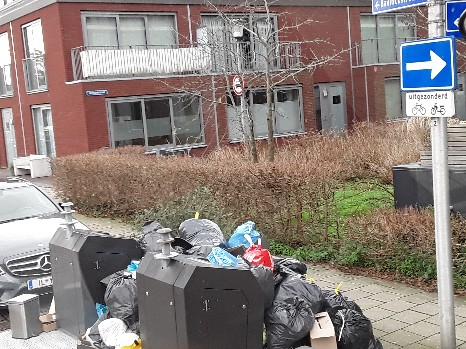Container: (148, 257, 282, 349), (64, 239, 119, 307)
Rest: (174, 216, 234, 267), (283, 286, 326, 345), (255, 220, 290, 274), (82, 316, 137, 349), (296, 275, 352, 307), (341, 311, 387, 349), (242, 222, 278, 266), (307, 289, 342, 328), (145, 218, 183, 253), (123, 274, 148, 323), (356, 310, 372, 324)
